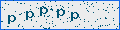p: (71, 12, 79, 21), (57, 9, 65, 18), (40, 7, 48, 16), (26, 11, 34, 20), (8, 15, 16, 24)
